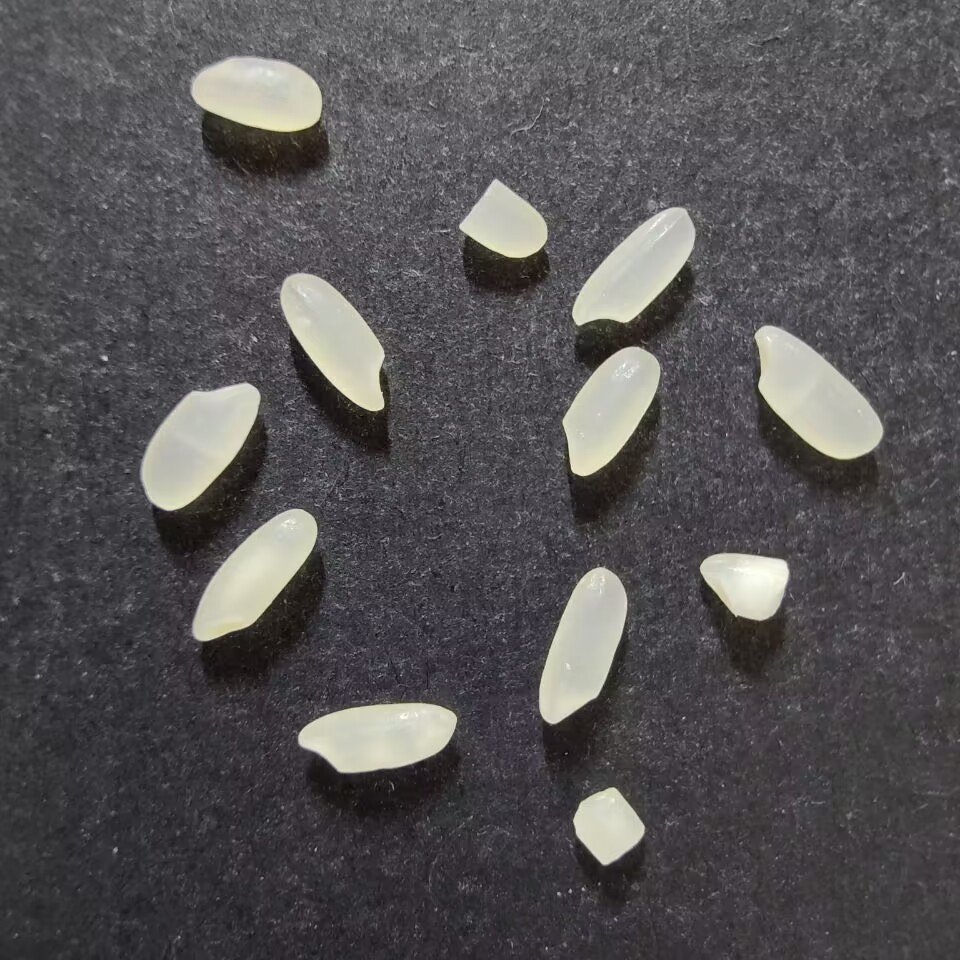broken: (457, 178, 547, 259), (699, 552, 789, 621), (572, 787, 645, 866)
rice: (753, 324, 883, 458), (191, 506, 319, 642), (139, 381, 260, 510), (569, 205, 697, 326), (278, 272, 385, 413), (538, 566, 627, 724), (561, 345, 661, 476), (297, 702, 457, 773), (189, 56, 322, 132)
